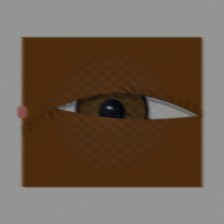pinguecula_lesion: (27, 99, 65, 129)
